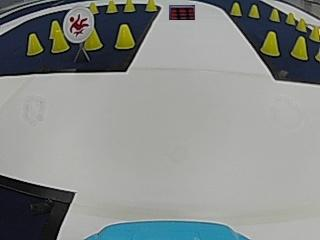cone: (260, 30, 280, 57), (114, 24, 134, 49), (50, 27, 68, 53), (291, 36, 307, 60), (26, 32, 42, 55), (84, 30, 102, 50), (229, 1, 242, 16), (105, 0, 118, 14), (248, 3, 260, 18), (309, 24, 319, 41), (123, 0, 136, 13), (269, 8, 280, 22), (296, 17, 306, 32), (145, 0, 157, 12), (88, 1, 99, 14), (286, 10, 295, 25)
tumble: (66, 10, 92, 38)
